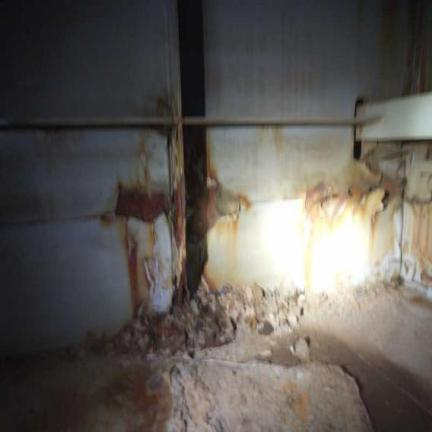karat: (115, 185, 168, 222)
